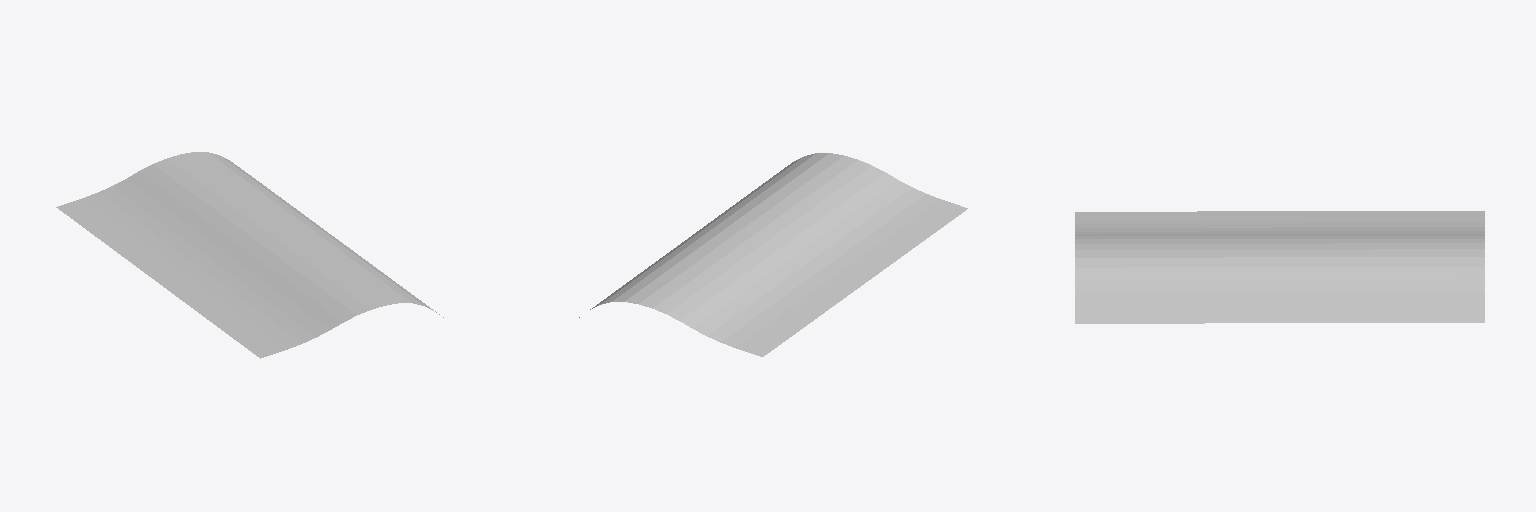
File: page0001.obj
3 views of the same model, side by side, from view 1: azimuth 30°, elevation 25°; view 2: azimuth 150°, elevation 25°; view 3: azimuth 270°, elevation 25° (orthographic).
Size of the model in its own units: 276 by 53.82 by 501.